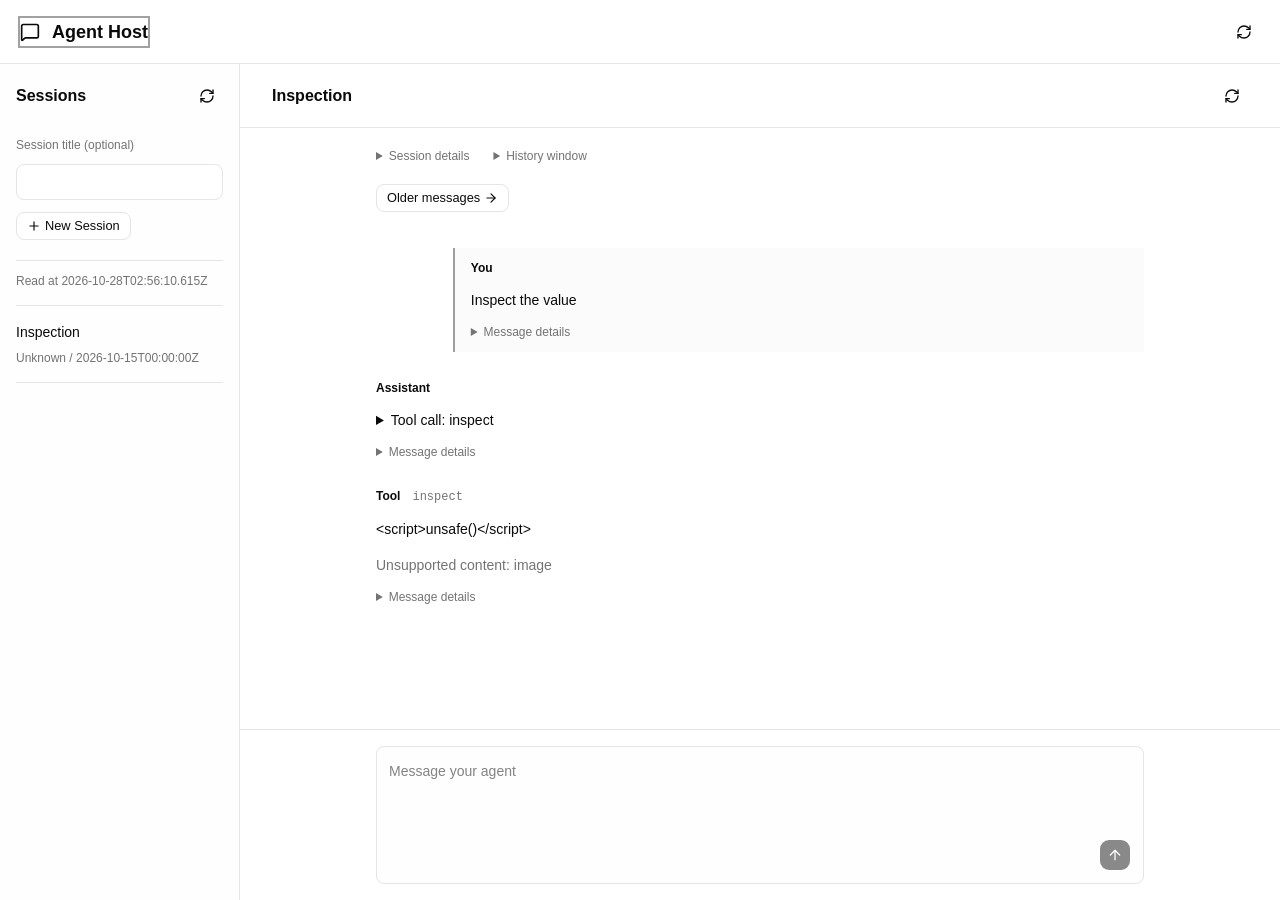
Test: Agent Host Session browsing › retains the answer and blocks unsafe overlap when automatic metadata and history refresh fail, without replay
The image size is (1280, 900).
In the text box named "New input": (760, 795) [389,759,1131,831], type "First turn"
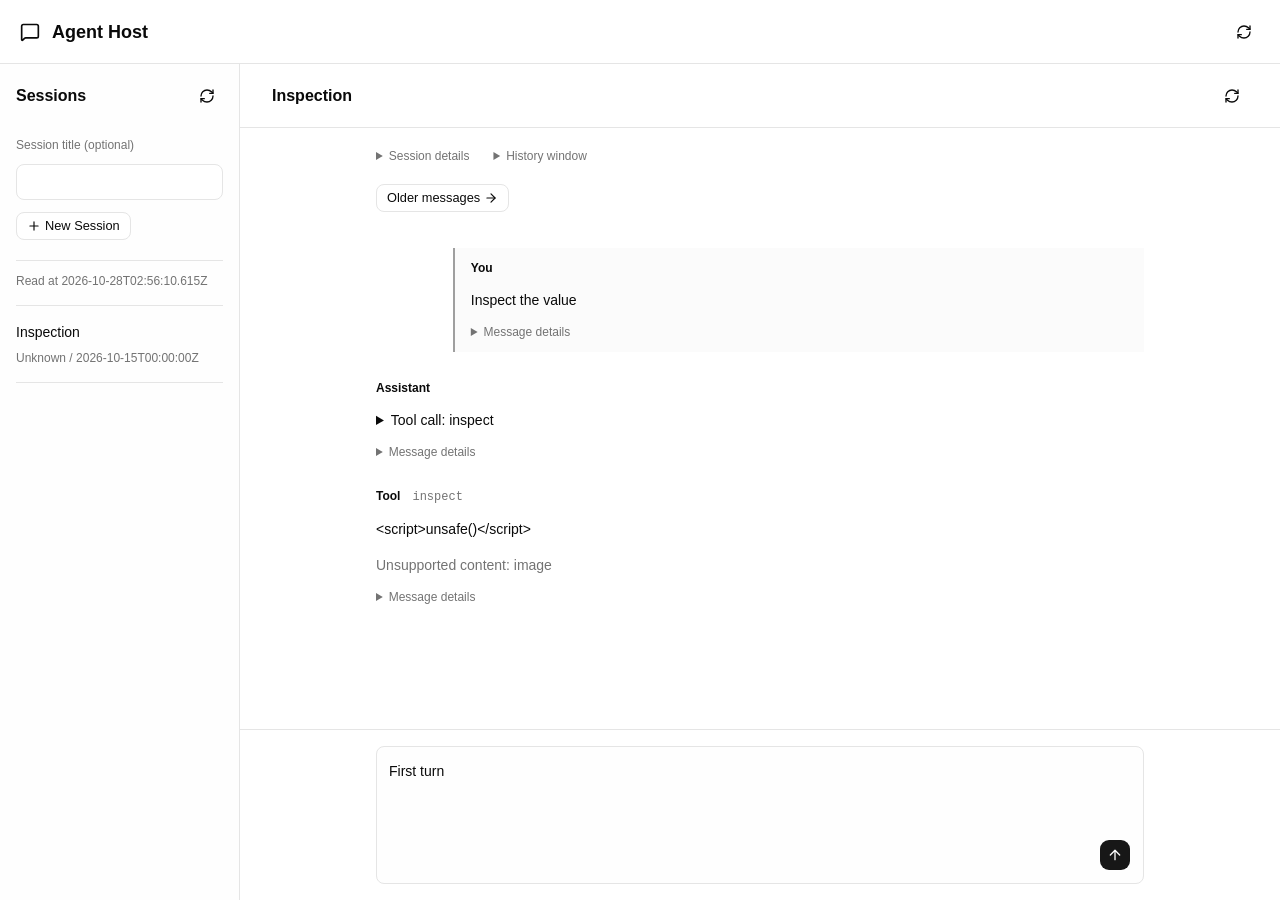
Click the button named "Send input": (1115, 855) [1099,839,1131,871]
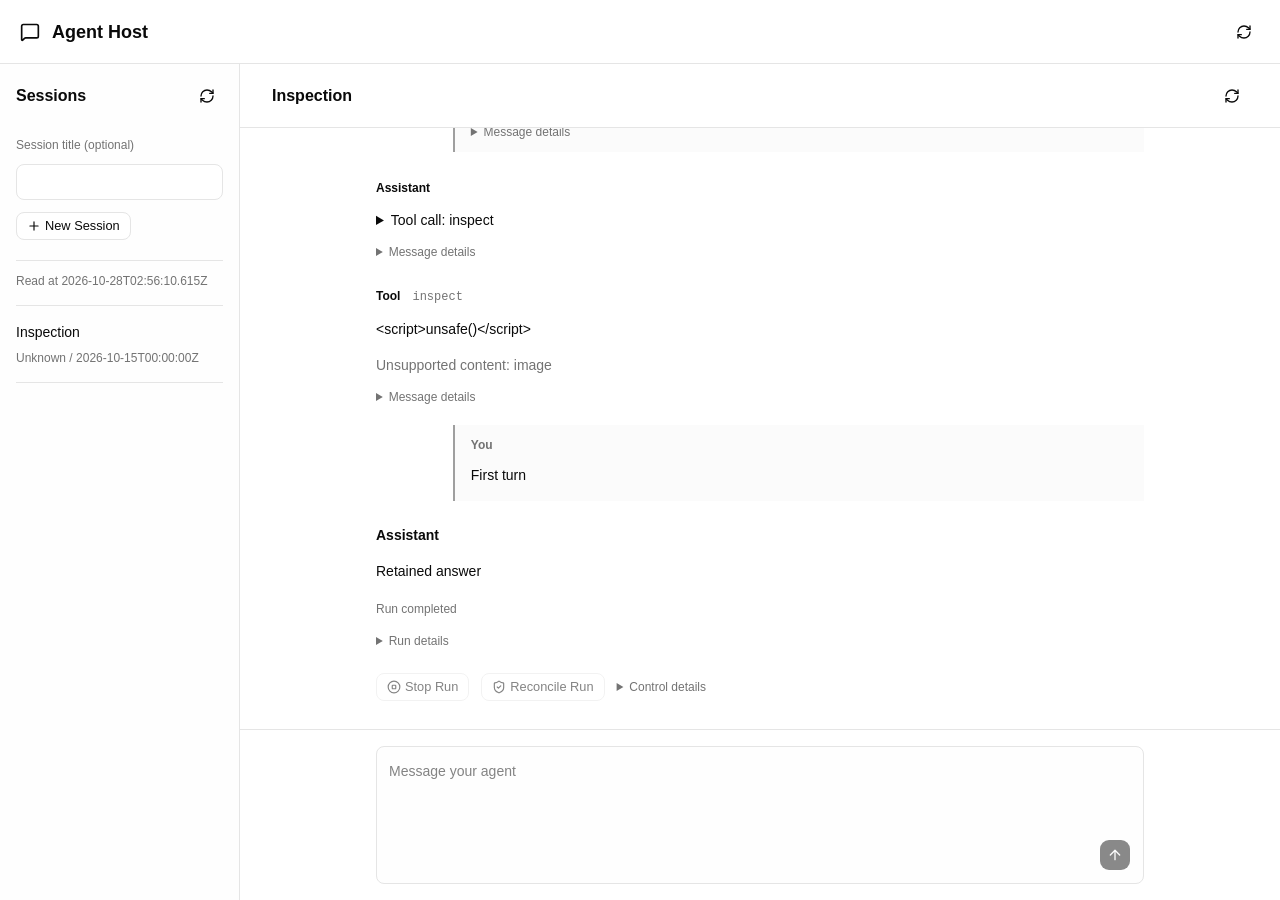
expect the text "Last turn snapshot" is not shown: met
expect the text named "Current assistant output" reads "Retained answer": met, box [376,563,481,579]
In the text box named "New input": (760, 795) [389,759,1131,831], type "Do not retry automatically"
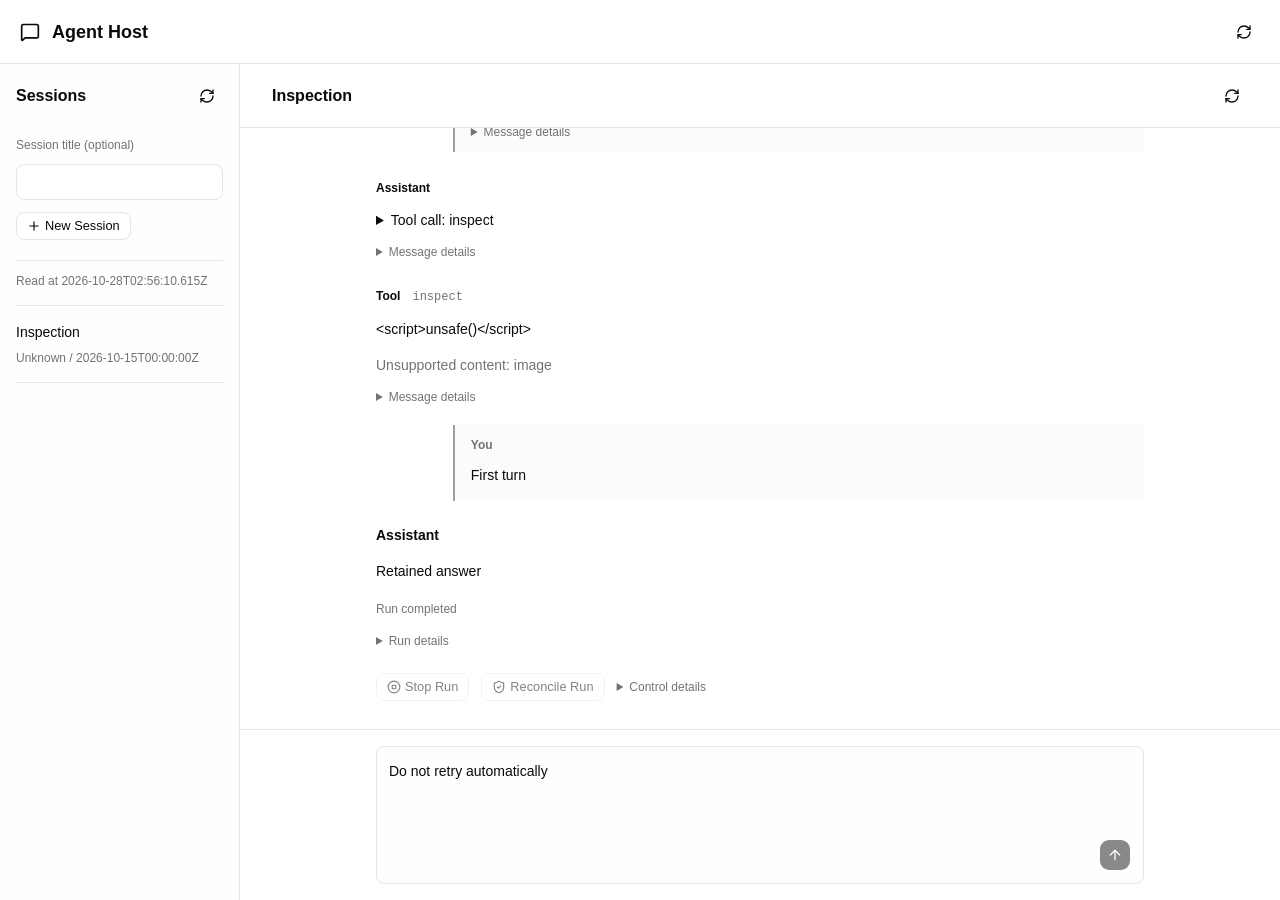
expect the button named "Send input" is disabled: met, box [1099,839,1131,871]
Click the button named "Refresh Session": (1232, 96) [1216,80,1248,112]
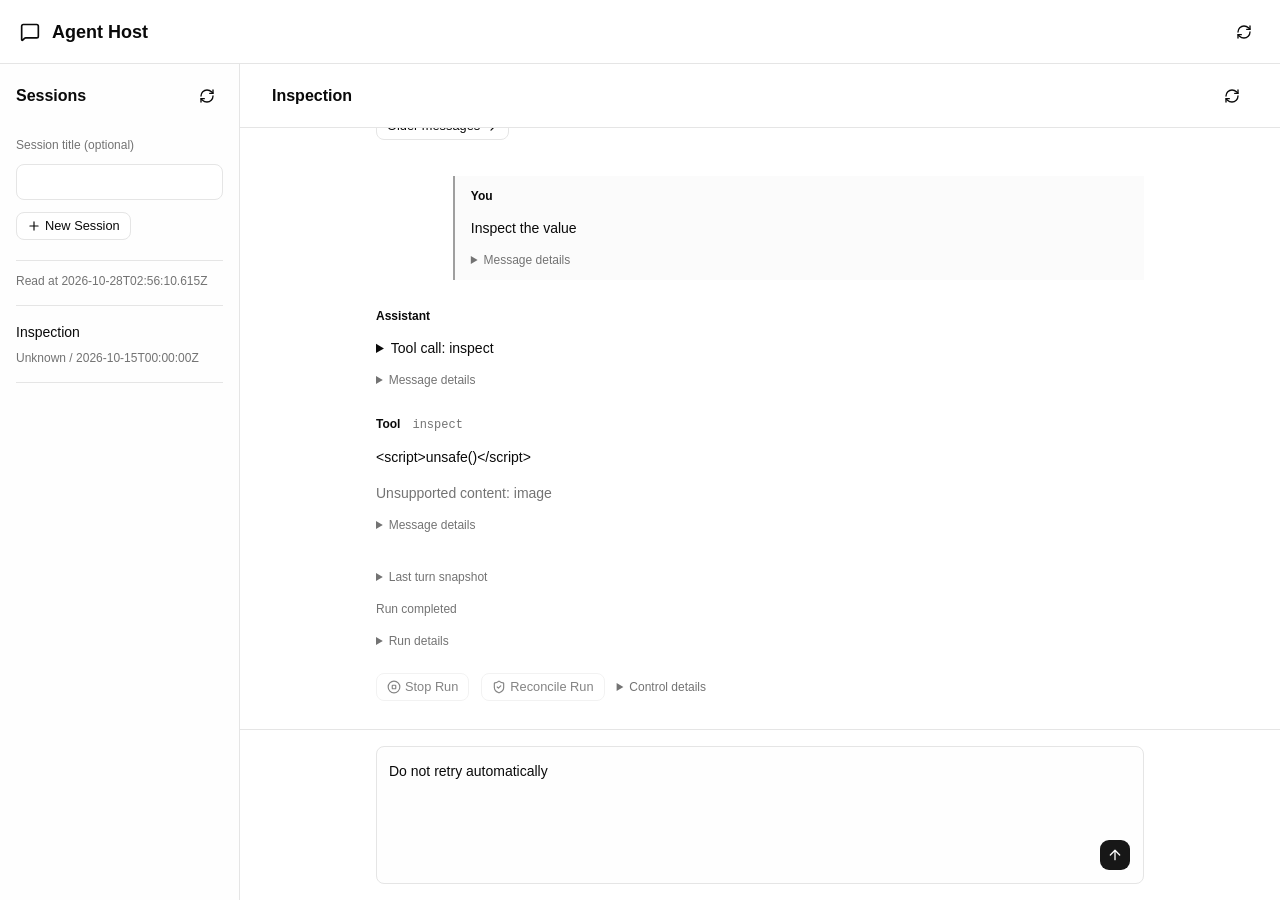
expect the button named "Send input" is enabled: met, box [1099,839,1131,871]
